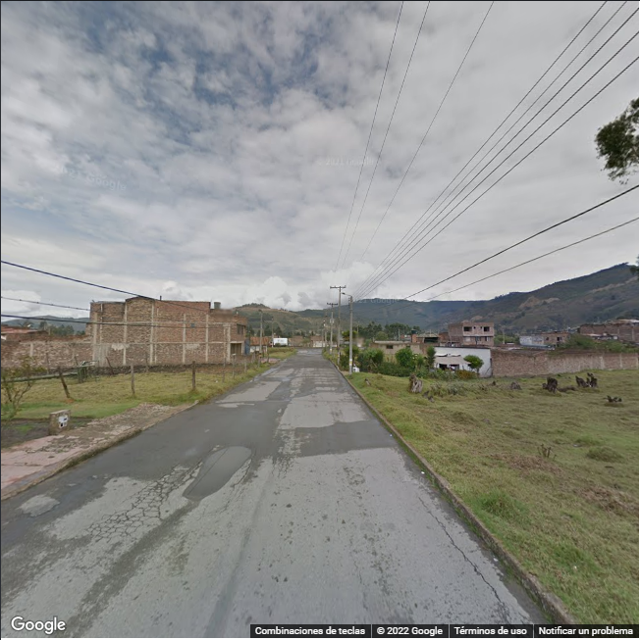D00: (413, 488, 504, 603)
D20: (76, 462, 197, 529)
